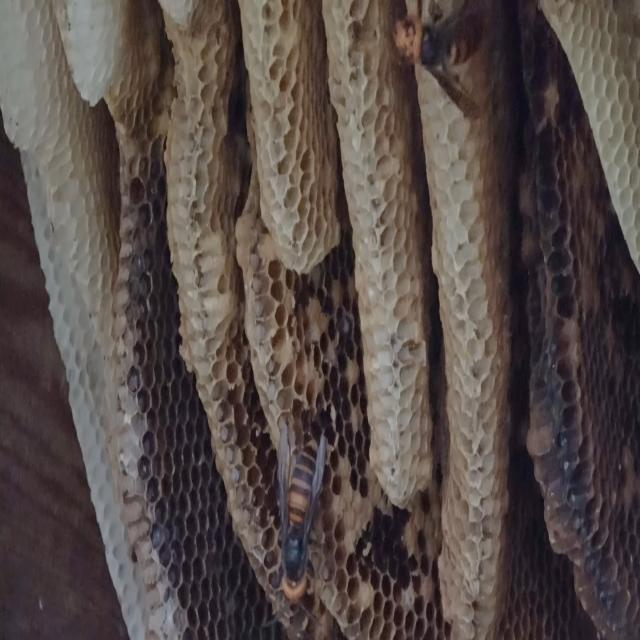Hornets: (387, 0, 484, 120), (274, 417, 327, 602)
